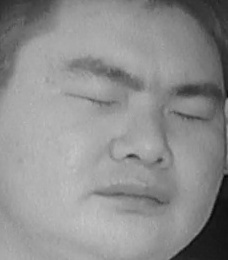blink: (68, 83, 116, 114), (167, 100, 210, 130)
mouth: (90, 172, 172, 217)
